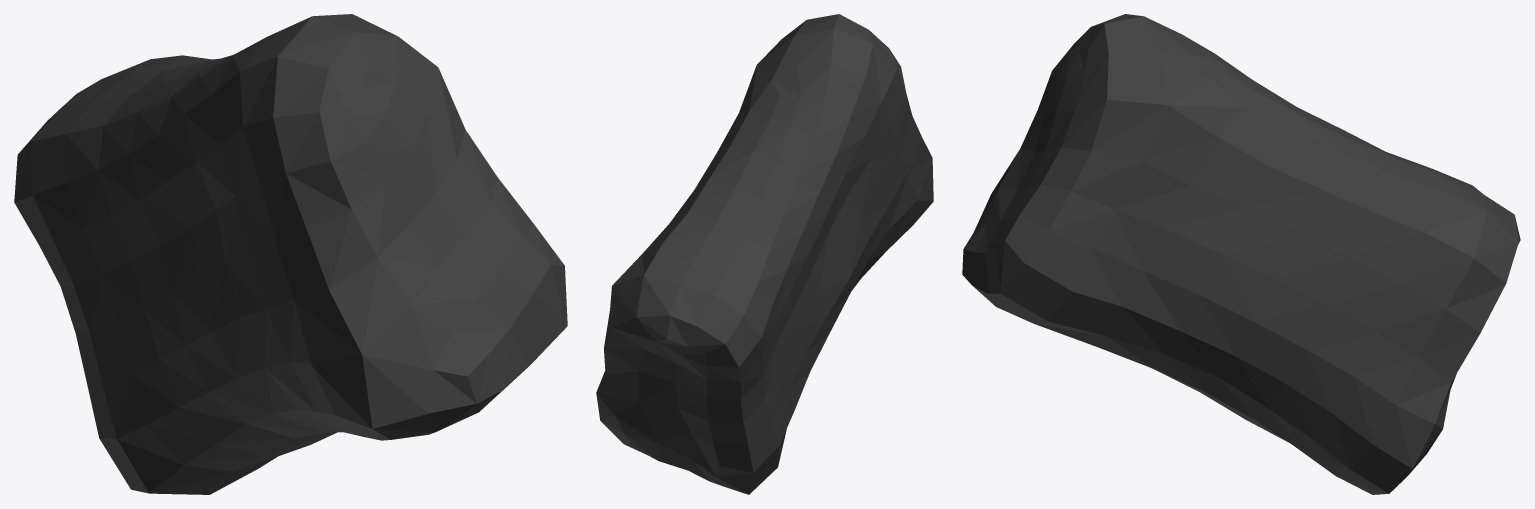
3 views of the same model, side by side, from view 1: azimuth 30°, elevation 25°; view 2: azimuth 150°, elevation 25°; view 3: azimuth 270°, elevation 25° (orthographic). The views are drawn at different scales.
Parts seen in each view (by area): view 1: SB_3; view 2: SB_3; view 3: SB_3.
Boxes of the visible parts, left/top/right/bottom form: SB_3: left=14, top=14, right=567, bottom=494; SB_3: left=596, top=14, right=933, bottom=494; SB_3: left=962, top=14, right=1520, bottom=494.
Size of the model in its own units: 0.6012 by 1.28 by 1.44.
1 material, 1 textured.
